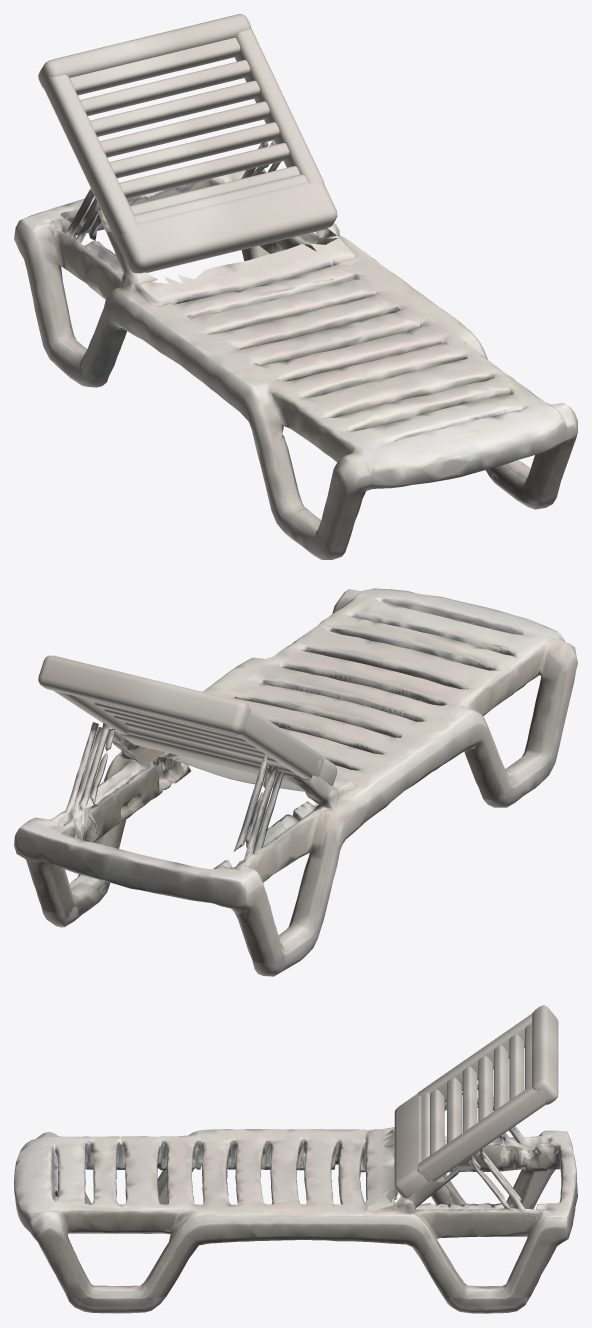
Rendered from VAR_Pool_Bench.fbx.
3 renders of one model, top to bottom at view 1: azimuth 30°, elevation 25°; view 2: azimuth 150°, elevation 25°; view 3: azimuth 270°, elevation 25°, orthographic. The views are drawn at different scales.
Visible parts, largest first — view 1: texture_mapping; view 2: texture_mapping; view 3: texture_mapping.
Boxes of the visible parts, x1,y1,x2,y2 form: texture_mapping: [14, 14, 577, 559]; texture_mapping: [14, 588, 577, 976]; texture_mapping: [14, 1005, 577, 1313].
Bounding box in the file's own units: 38.4 × 44.66 × 100.
